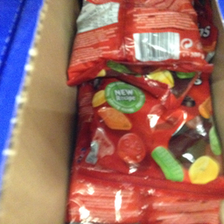candy: (80, 64, 224, 194), (71, 1, 208, 71)
